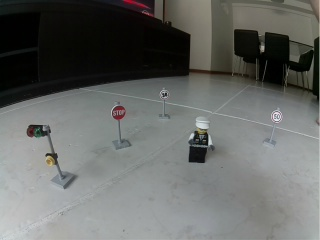Person: (187, 115, 215, 166)
Red Traffic Light: (25, 124, 78, 189)
Speed Limit 30: (160, 90, 169, 100)
Speed Limit 50: (271, 110, 283, 123)
Stop Sign: (109, 105, 127, 121)
